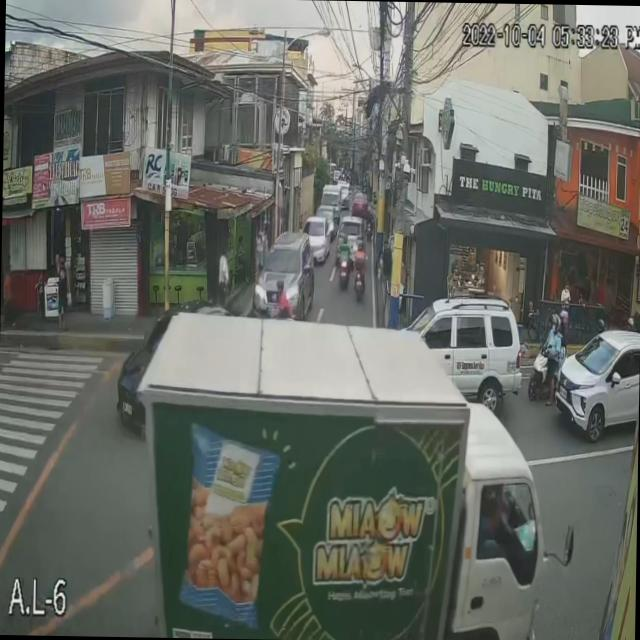half: (550, 312, 560, 334), (560, 307, 568, 326)
